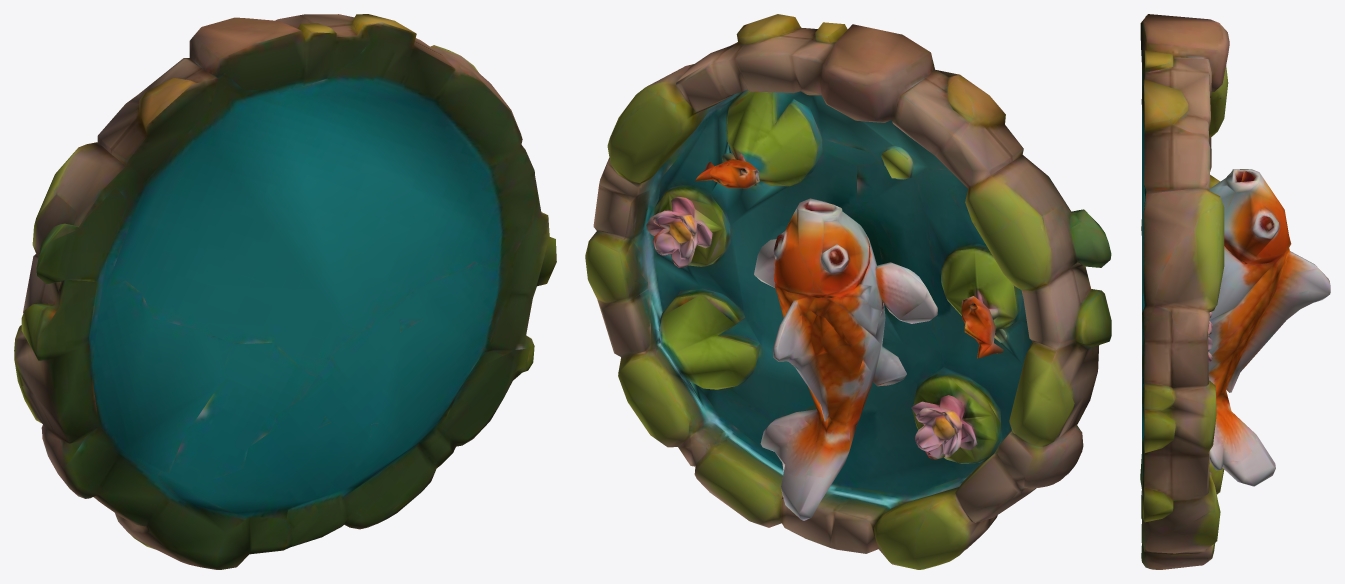
The picture shows the model from 3 angles, left to right: view 1: azimuth 30°, elevation 25°; view 2: azimuth 150°, elevation 25°; view 3: azimuth 270°, elevation 25°; orthographic projection. The views are drawn at different scales.
Parts seen in each view (by area): view 1: material; view 2: material; view 3: material.
Part boxes in pixels (box(x1,y1,x2,y2)): material: box(14, 14, 556, 569); material: box(585, 14, 1111, 569); material: box(1140, 14, 1330, 569).
Bounding box in the file's own units: 1 × 0.9668 × 0.3338.
1 material, 1 textured.
